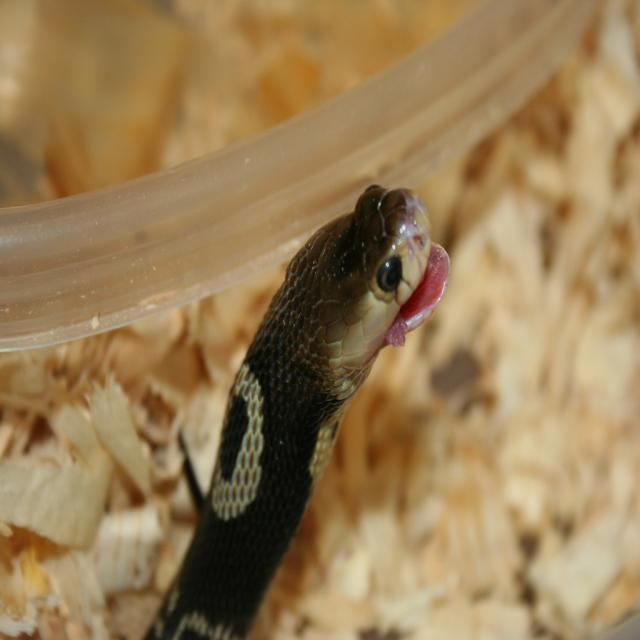Snake: (138, 180, 451, 638)
